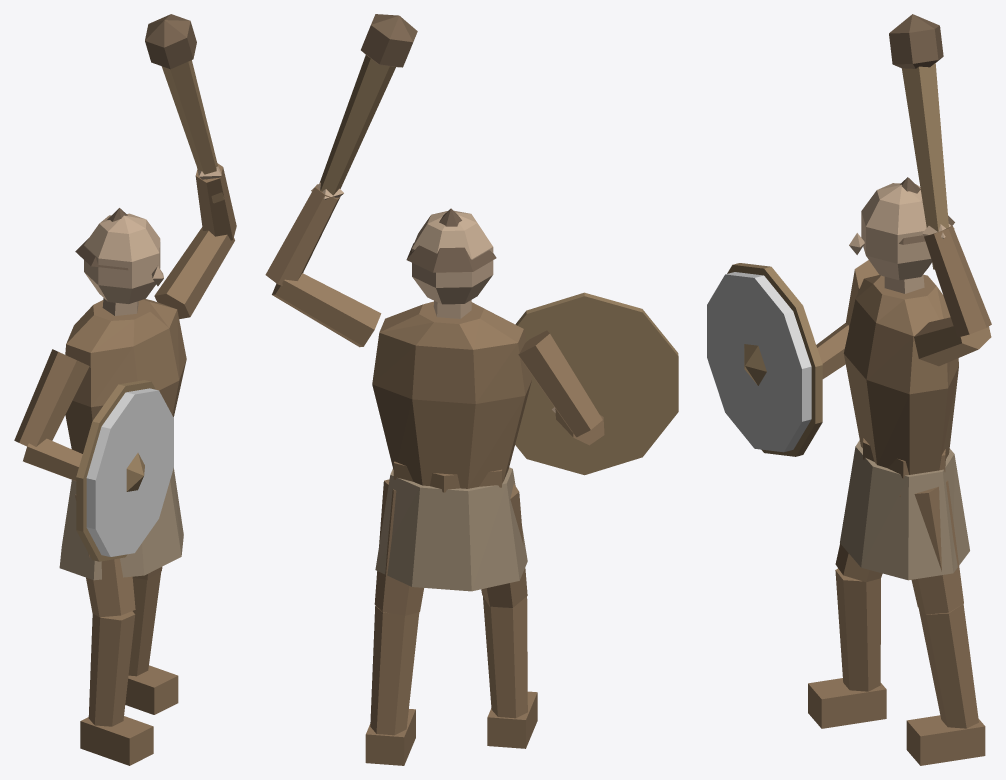
Rendered from warrior.glb.
3 renders of one model, left to right at view 1: azimuth 30°, elevation 25°; view 2: azimuth 150°, elevation 25°; view 3: azimuth 270°, elevation 25°, orthographic. The views are drawn at different scales.
Visible parts, largest first — view 1: LOD0; view 2: LOD0; view 3: LOD0.
Part boxes in pixels (x1,y1,x2,y2): LOD0: (14, 14, 236, 765); LOD0: (265, 14, 678, 765); LOD0: (707, 14, 991, 765).
Size of what is drawn, in the model's own units: 0.547 by 1.3 by 0.4537.
